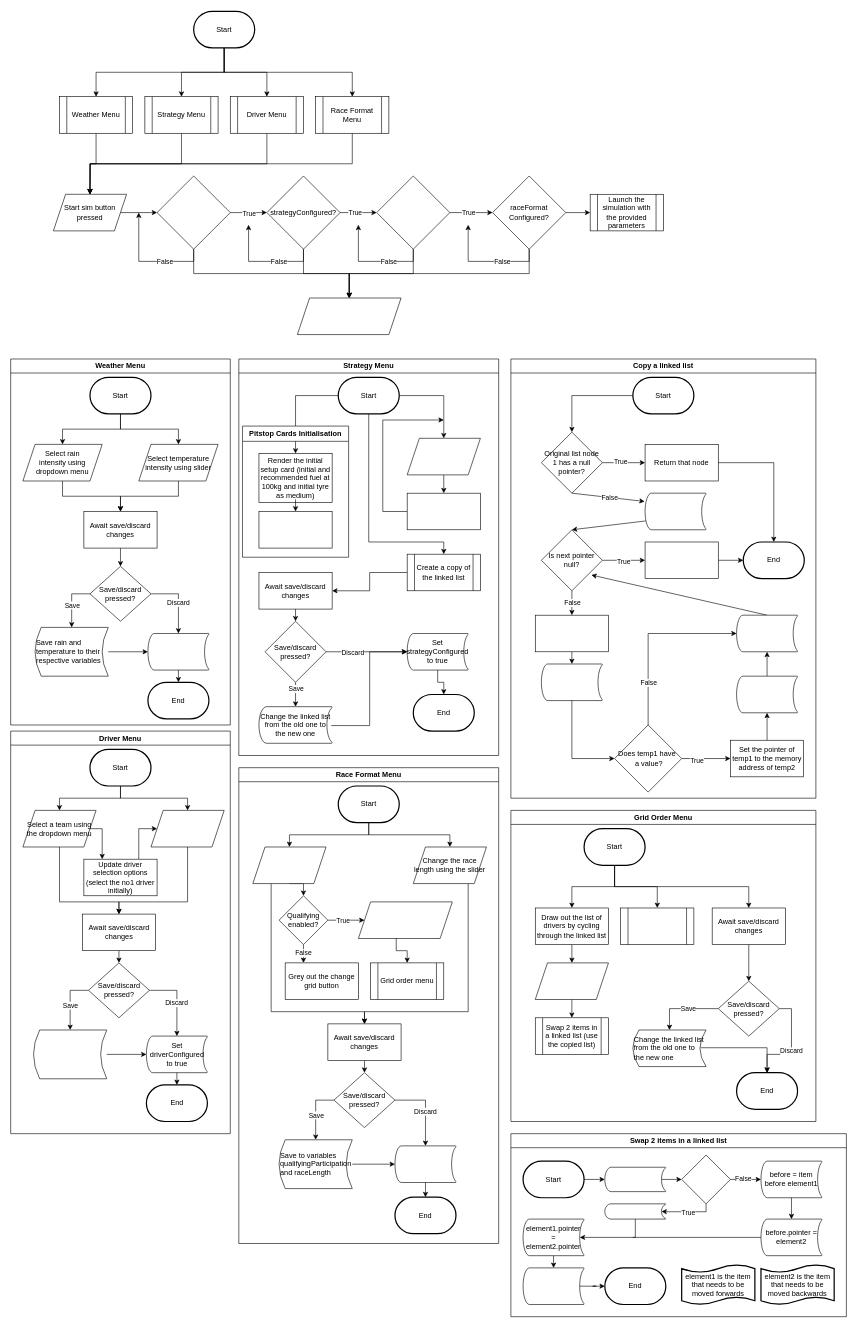
The diagram is 857 pixels wide and 1327 high, and some of its shapes have lost their labels. The shapes that lost their labels are listed below. From the top down, each one's centre as x and y in pixels, then its label:
(193,212): weatherConfigured?
(413,212): driverConfigured?
(349,316): Throw error telling user to configure all options
(443,456): Add a stop
(295,529): Render a single pitstop card below the initial card (tyre as hard)
(443,511): Cycle to the end of linked list and add a new pitstop node
(675,511): Create 2 variables temp1 and temp2
(681,560): Return front (node at the front of the linked list
(178,651): Set weatherConfigured to true
(571,633): Create a copy of the node but with null pointer
(767,633): Set temp1 = temp2
(571,682): Store this in temp2
(767,694): Store the first node as the variable "front"
(187,828): Select a driver using the buttons
(289,865): Select a race format using the buttons (qualifying or not)
(405,919): Press the change grid button to open the grid order menu
(657,926): Copy the linked list of drivers
(571,980): Swap drivers button pressed
(70,1054): Save team and driver to the driverSelection tuple
(425,1163): Set raceFormatConfigured to true
(635,1179): Define element1 and element2
(705,1179): Is element1 the same as the front?
(635,1211): front = element2
(553,1285): element2.pointer = element1
